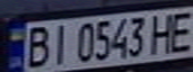0: (72, 19, 96, 63)
3: (127, 14, 151, 57)
4: (112, 15, 133, 60)
5: (93, 17, 115, 62)
B: (21, 22, 54, 70)
E: (163, 7, 193, 53)
H: (148, 10, 178, 55)
I: (48, 21, 72, 65)
